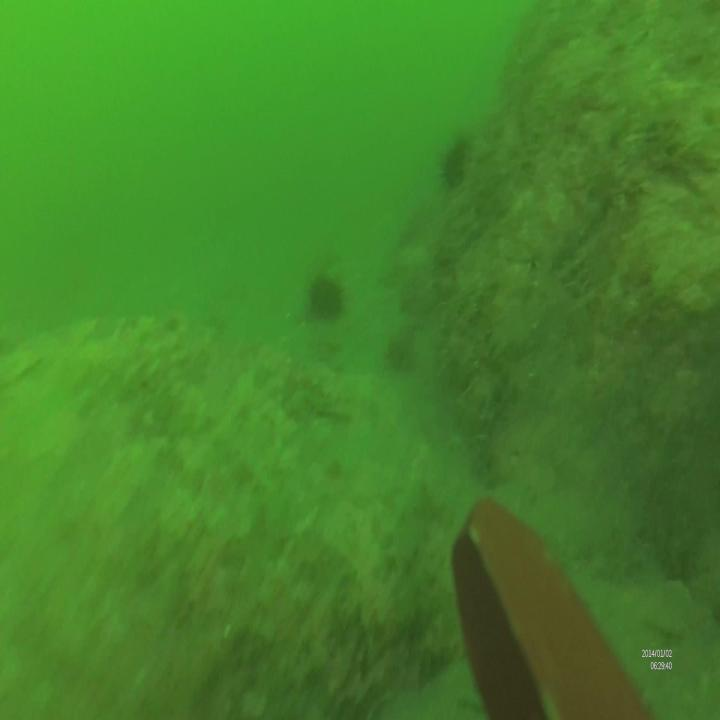echinus: (441, 127, 474, 186), (307, 276, 343, 323)
